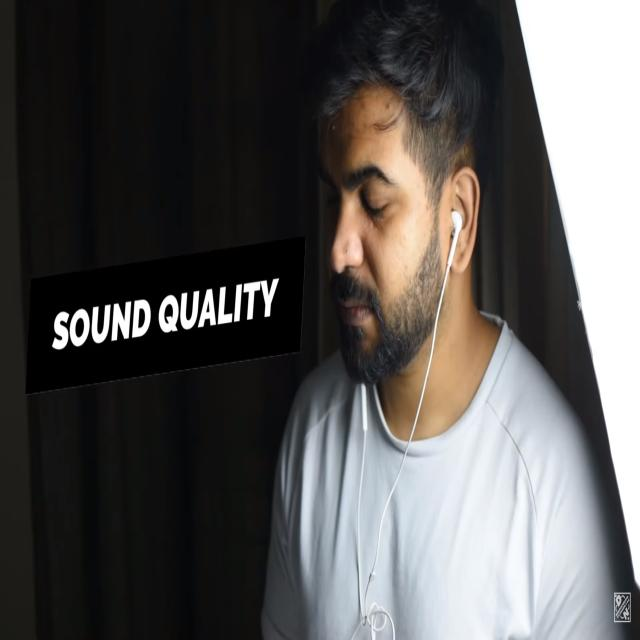Earphone: (349, 209, 464, 640)
